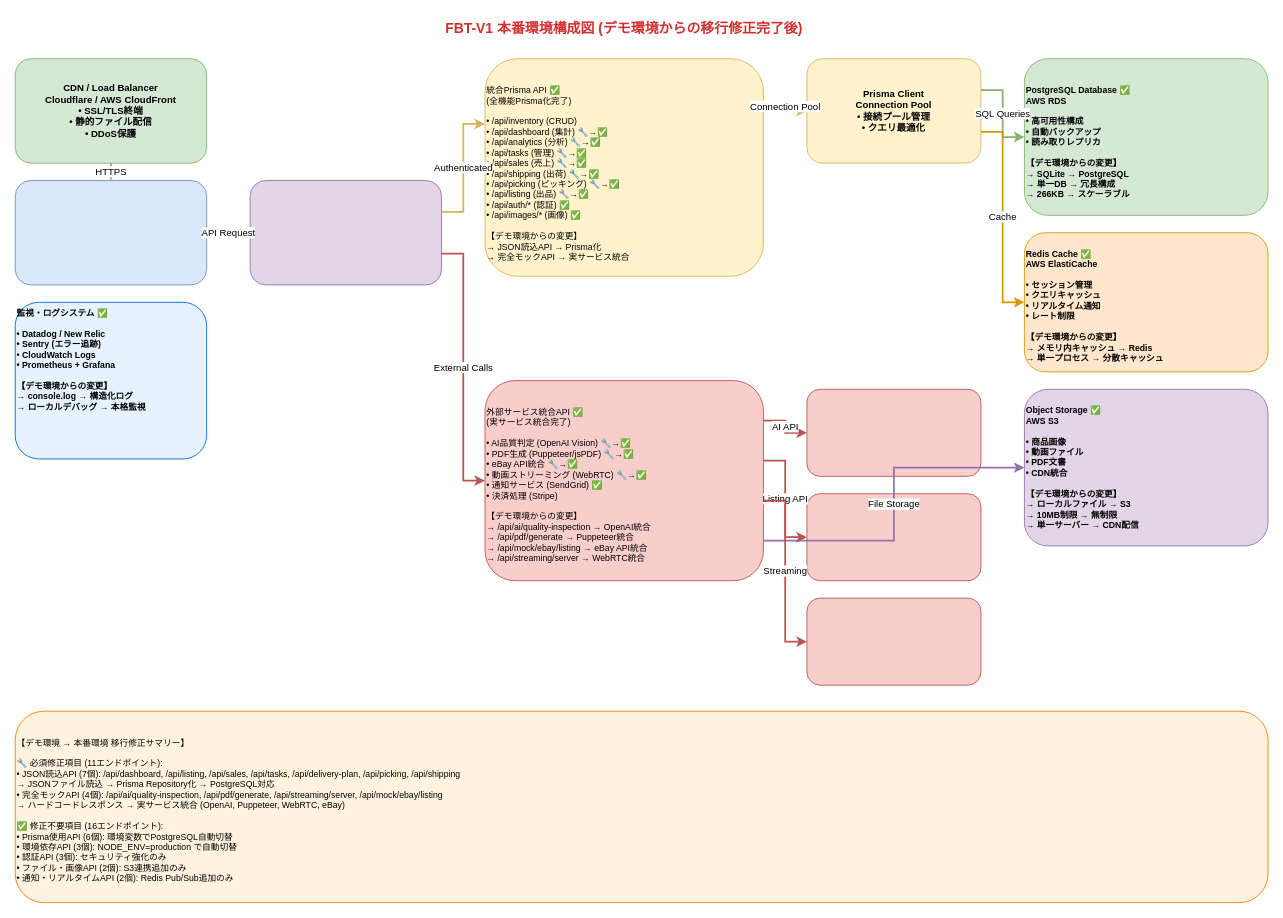
The diagram is 1283 pixels wide and 918 high, and some of its shapes have lost their labels. The box of each missing label's shape, as (x1, y1, x2, y2) in pixels:
API Gateway AWS API Gateway • レート制限 • 認証・認可 • ログ・監視: (249, 180, 442, 285)
eBay API ✅ 出品・在庫管理 【デモ環境からの変更】 → モックレスポンス → 実際のeBay連携: (806, 493, 981, 581)
Next.js Application Vercel / AWS ECS • SSR/SSG最適化 • 自動スケーリング: (14, 180, 207, 285)
OpenAI Vision API ✅ AI品質判定サービス 【デモ環境からの変更】 → ハードコードレスポンス → 実際のAI判定: (806, 388, 981, 476)
WebRTC Server ✅ 動画ストリーミング 【デモ環境からの変更】 → ダミーストリーム → 実際の動画配信: (806, 597, 981, 685)
